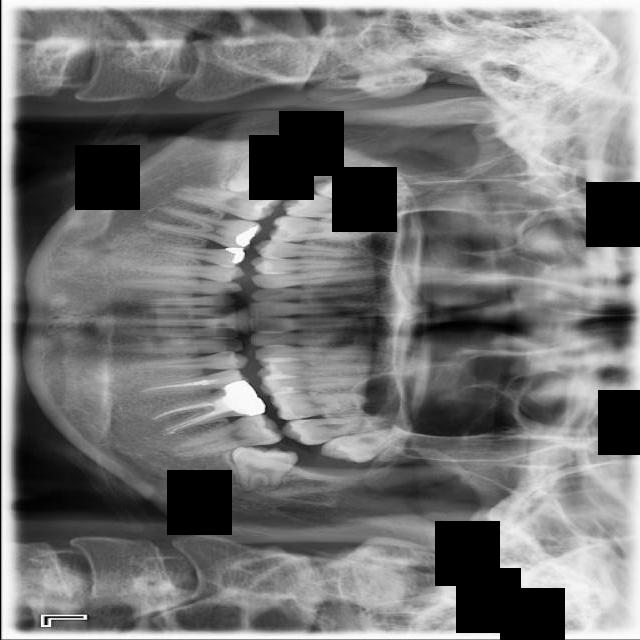3M ESPE Implant: (312, 170, 404, 210)
52: (214, 373, 269, 430), (216, 216, 263, 254), (214, 368, 248, 390), (214, 246, 245, 269)
73: (146, 384, 247, 440), (135, 373, 221, 394), (28, 615, 36, 623)
BioHorizons Implant: (278, 412, 407, 448)
BioLife Implant: (317, 421, 418, 471)
Biomet 3i Implant: (231, 445, 298, 491)
Blue Sky Bio Implant: (170, 408, 285, 461)
Caries: (281, 192, 405, 224)
Implant: (168, 185, 282, 223)
Keystone Dental Implant: (226, 153, 295, 194)
